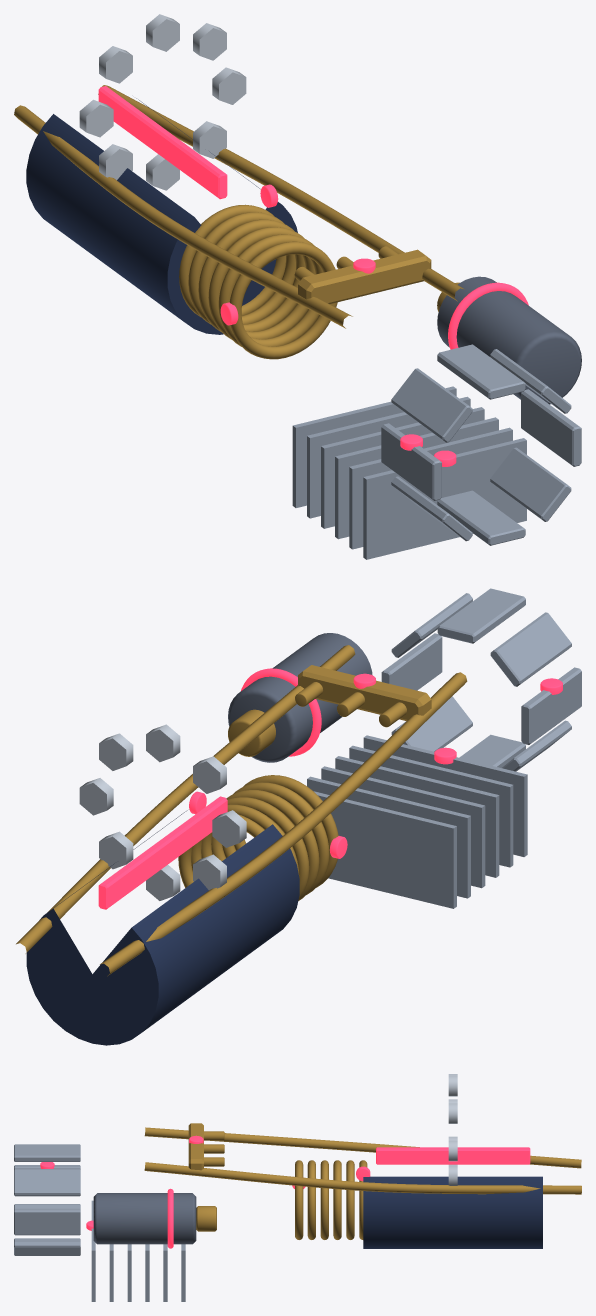
File: tower_filament_ramp_s8.glb
The picture shows the model from 3 angles, top to bottom: view 1: azimuth 30°, elevation 25°; view 2: azimuth 150°, elevation 25°; view 3: azimuth 270°, elevation 25°; orthographic projection. The views are drawn at different scales.
Parts seen in each view (by area): view 1: filament_radiator_b, filament_heat_shroud, filament_accumulator, filament_shroud_bolts, filament_heat_pipe_r, filament_heat_pipe_l, filament_manifold, filament_shroud_glow, filament_coil_sleeve0, filament_breech_fin1, filament_breech_fin5, filament_breech_fin4 (+11 smaller); view 2: filament_radiator_b, filament_heat_shroud, filament_shroud_bolts, filament_heat_pipe_r, filament_accumulator, filament_heat_pipe_l, filament_shroud_glow, filament_manifold, filament_breech_fin1, filament_breech_fin2, filament_breech_fin0, filament_breech_fin4 (+12 smaller); view 3: filament_heat_shroud, filament_accumulator, filament_heat_pipe_l, filament_shroud_glow, filament_heat_pipe_r, filament_breech_fin3, filament_breech_fin4, filament_radiator_b, filament_breech_fin2, filament_breech_fin5, filament_shroud_bolts, filament_manifold (+9 smaller).
Boxes of the visible parts, <box> form: filament_radiator_b: <box>292,386,526,559</box>; filament_heat_shroud: <box>26,98,297,334</box>; filament_accumulator: <box>437,276,581,404</box>; filament_shroud_bolts: <box>79,14,246,190</box>; filament_heat_pipe_r: <box>14,105,352,328</box>; filament_heat_pipe_l: <box>98,85,464,301</box>; filament_manifold: <box>298,249,431,303</box>; filament_shroud_glow: <box>98,86,227,199</box>; filament_coil_sleeve0: <box>229,241,337,359</box>; filament_breech_fin1: <box>391,368,472,442</box>; filament_breech_fin5: <box>490,447,571,521</box>; filament_breech_fin4: <box>521,389,581,466</box>; filament_radiator_b: <box>307,735,527,908</box>; filament_heat_shroud: <box>26,810,299,1045</box>; filament_shroud_bolts: <box>79,724,246,900</box>; filament_heat_pipe_r: <box>100,672,467,976</box>; filament_accumulator: <box>228,633,372,762</box>; filament_heat_pipe_l: <box>16,645,355,953</box>; filament_shroud_glow: <box>98,796,227,909</box>; filament_manifold: <box>298,665,431,720</box>; filament_breech_fin1: <box>490,612,571,686</box>; filament_breech_fin2: <box>437,588,525,643</box>; filament_breech_fin0: <box>521,667,581,744</box>; filament_breech_fin4: <box>381,633,442,690</box>; filament_heat_shroud: <box>363,1176,542,1248</box>; filament_accumulator: <box>93,1193,196,1244</box>; filament_heat_pipe_l: <box>144,1162,581,1194</box>; filament_shroud_glow: <box>376,1147,530,1164</box>; filament_heat_pipe_r: <box>144,1127,581,1168</box>; filament_breech_fin3: <box>14,1169,80,1196</box>; filament_breech_fin4: <box>14,1208,80,1235</box>; filament_radiator_b: <box>91,1200,185,1301</box>; filament_breech_fin2: <box>14,1145,80,1161</box>; filament_breech_fin5: <box>14,1241,80,1255</box>; filament_shroud_bolts: <box>448,1074,457,1185</box>; filament_manifold: <box>188,1123,203,1170</box>.
Size of the model in its own units: 0.647 by 0.865 by 2.21.
